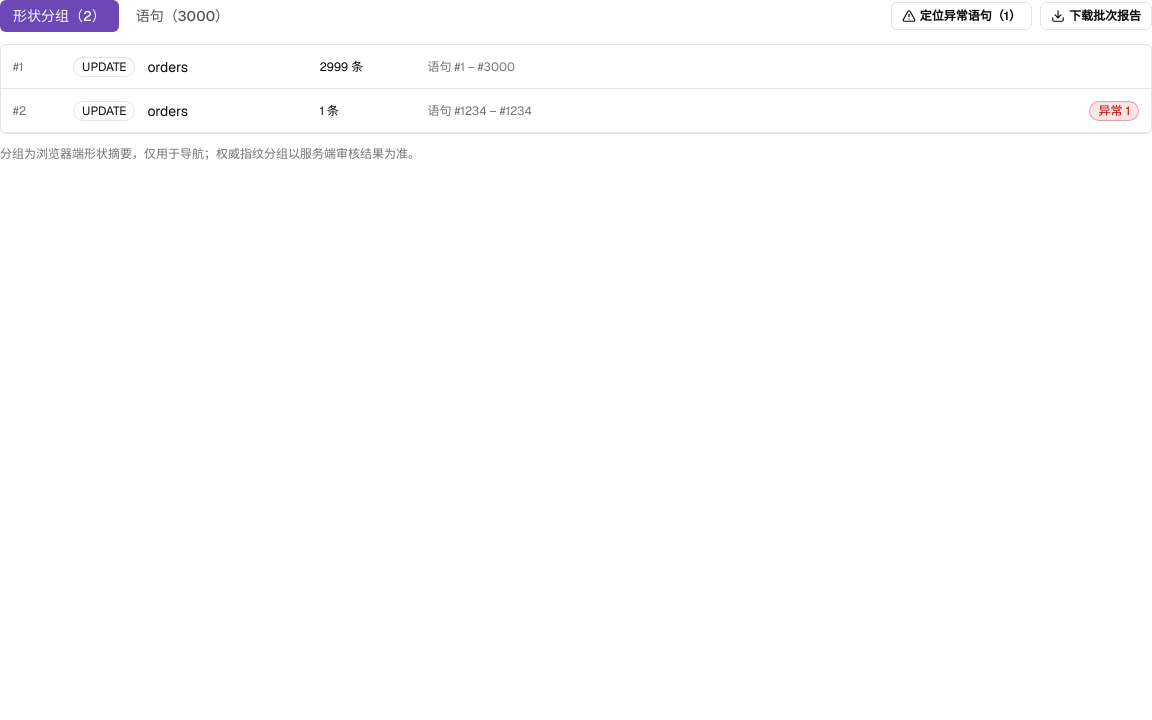
Test: StatementBrowser › renders a bounded number of rows for thousands of statements
The image size is (1152, 720).
Click the tab with test id "bulk-statements-tab" at (182, 16), box [123, 0, 242, 32]
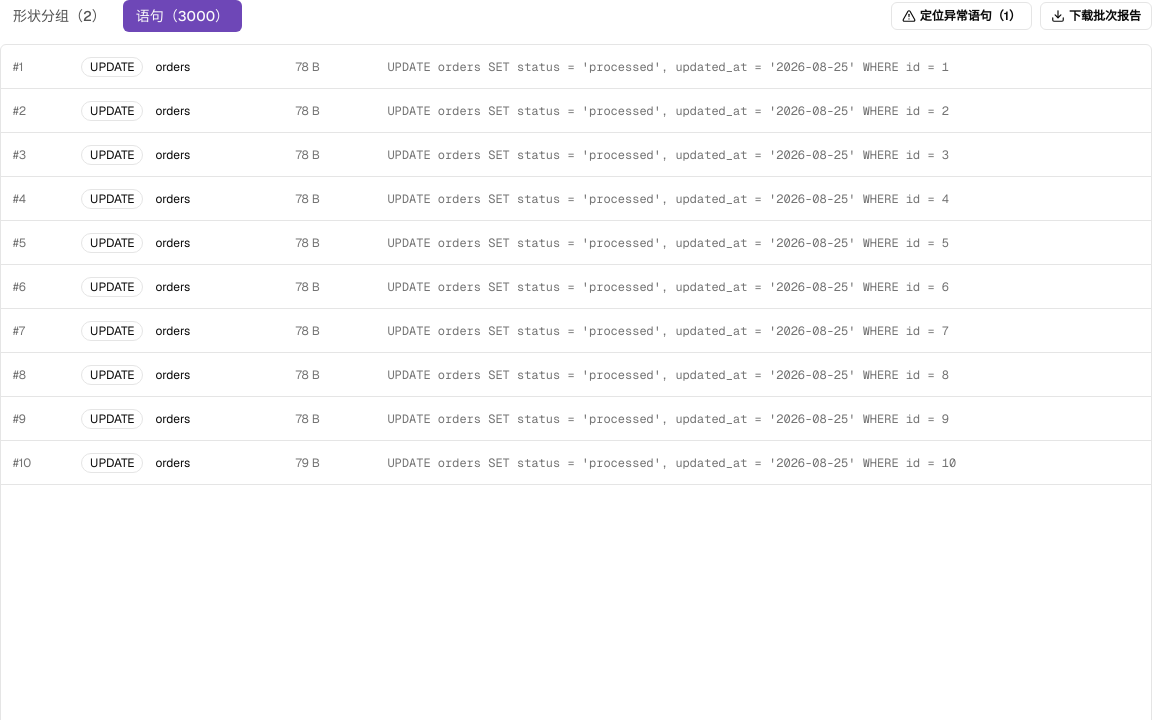
Now the 1st element with test id "bulk-statement-row" is shown, box [1, 45, 1151, 89]
